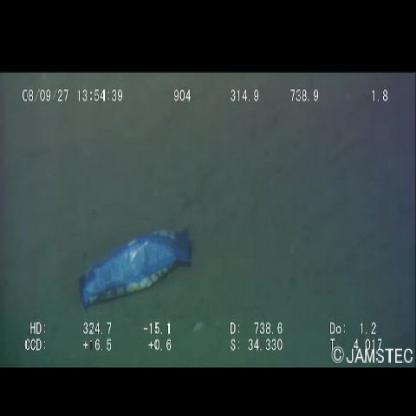Rác: (72, 223, 200, 317)
